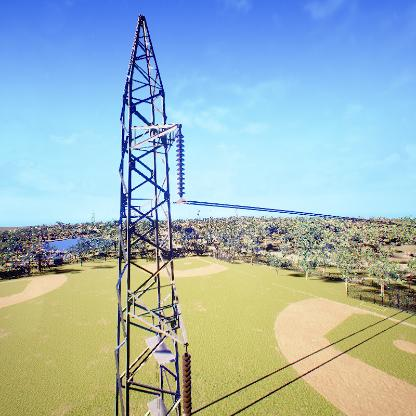tower: (86, 8, 214, 416)
